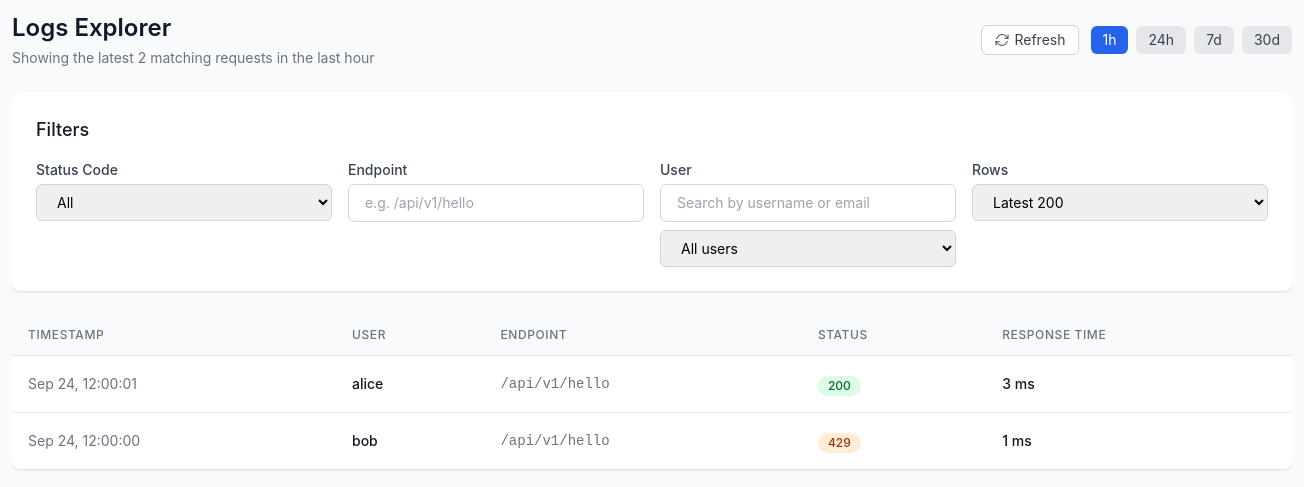
Test case: LogsExplorer › admins see usernames and can filter by user; filtering is server-side
Expected: the text "Showing the latest 2 matching requests in the last hour" is shown, top-left (12, 48), bottom-right (375, 68)
Expected: the column heading "User" is shown, top-left (336, 315), bottom-right (484, 356)
Select "bob" in the dropdown labelled "User" at (808, 248), box top-left (660, 230), bottom-right (956, 267)
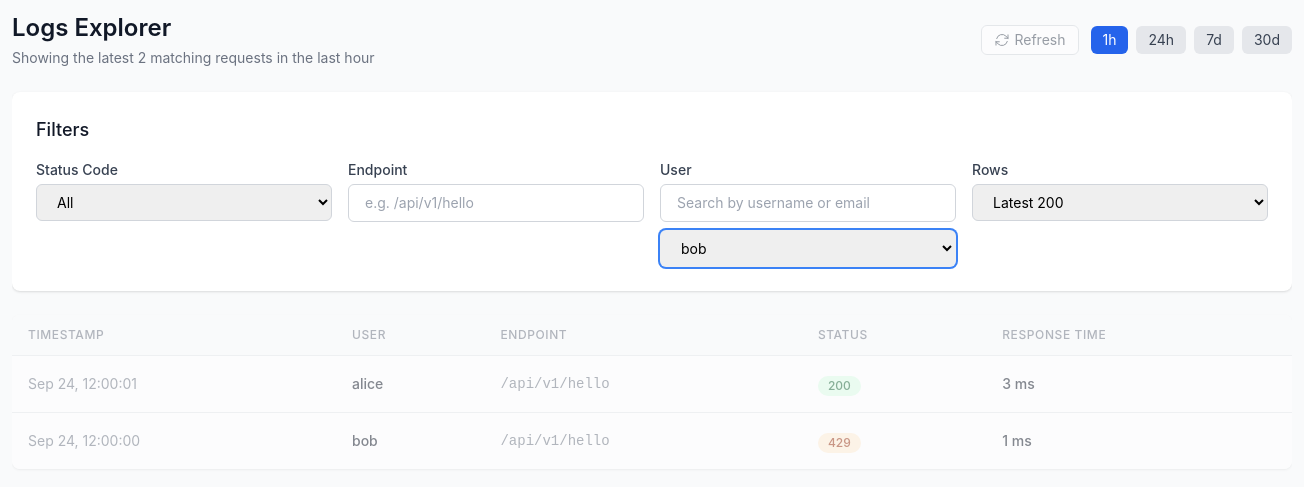
Select "4xx (Client Error, incl. 429)" in the dropdown labelled "Status Code" at (184, 202), box top-left (36, 184), bottom-right (332, 221)
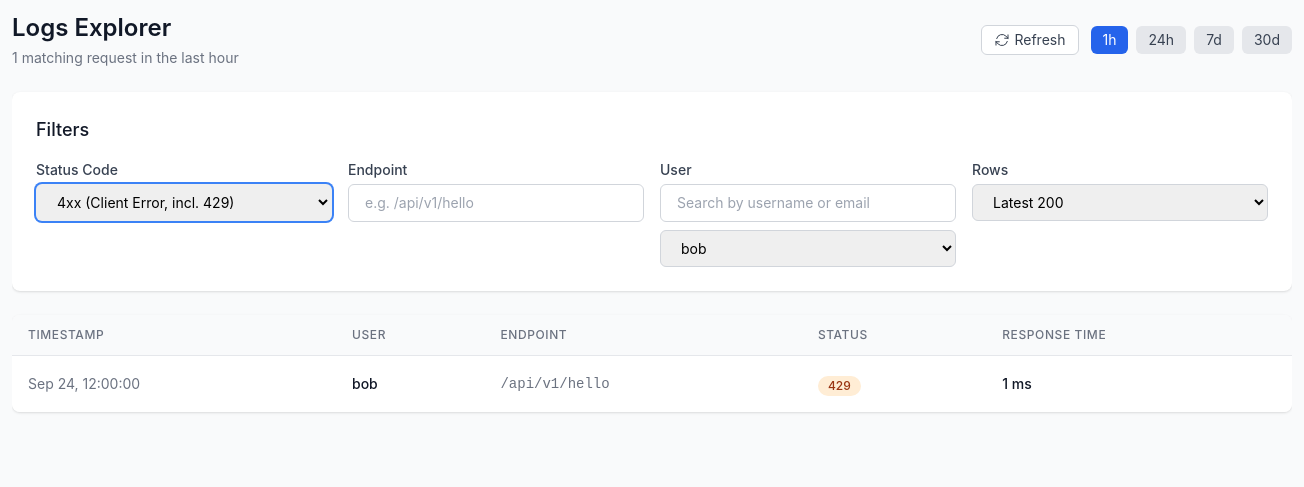
Expected: the text "1 matching request in the last hour" is shown, top-left (12, 48), bottom-right (239, 68)
